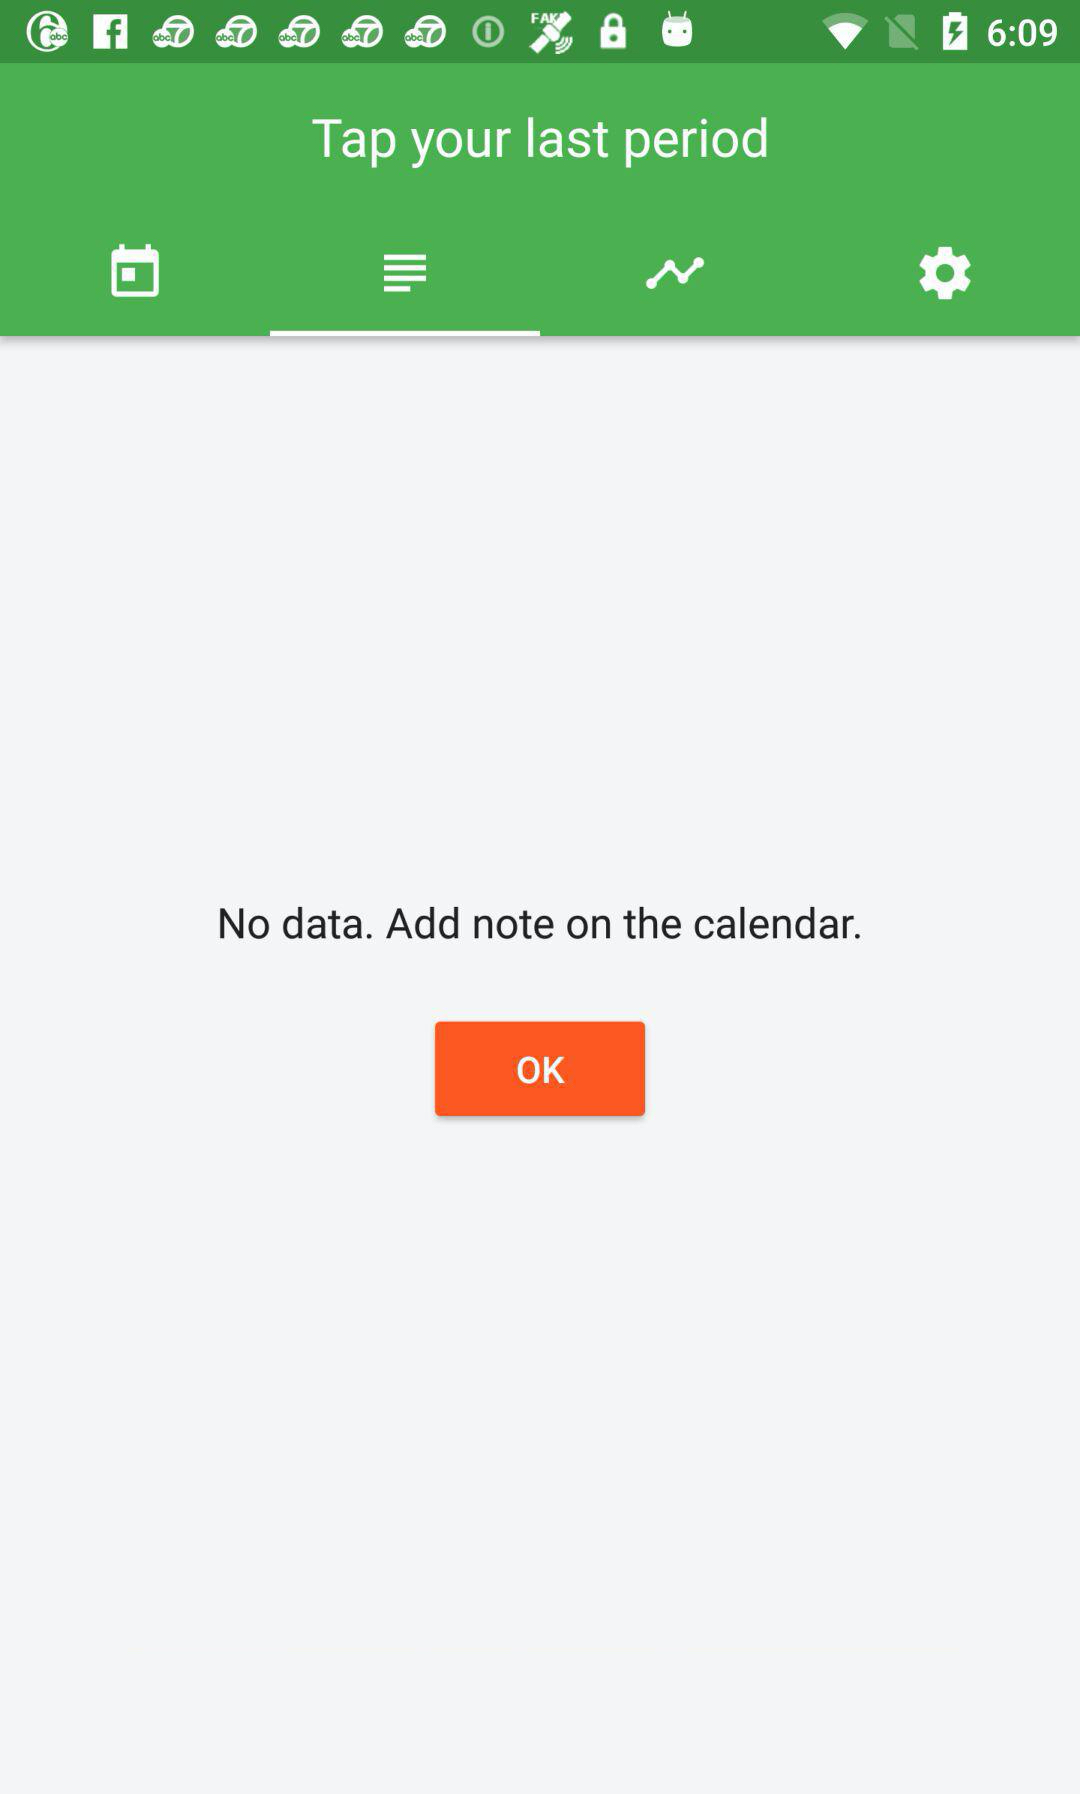Icon: (919, 247, 972, 302), (111, 243, 161, 299), (644, 256, 705, 291), (383, 254, 428, 295)
Text: (311, 117, 767, 170), (220, 906, 861, 941)
TextButton: (436, 1021, 646, 1117)
UpperTaskBar: (1, 1, 1080, 64)
